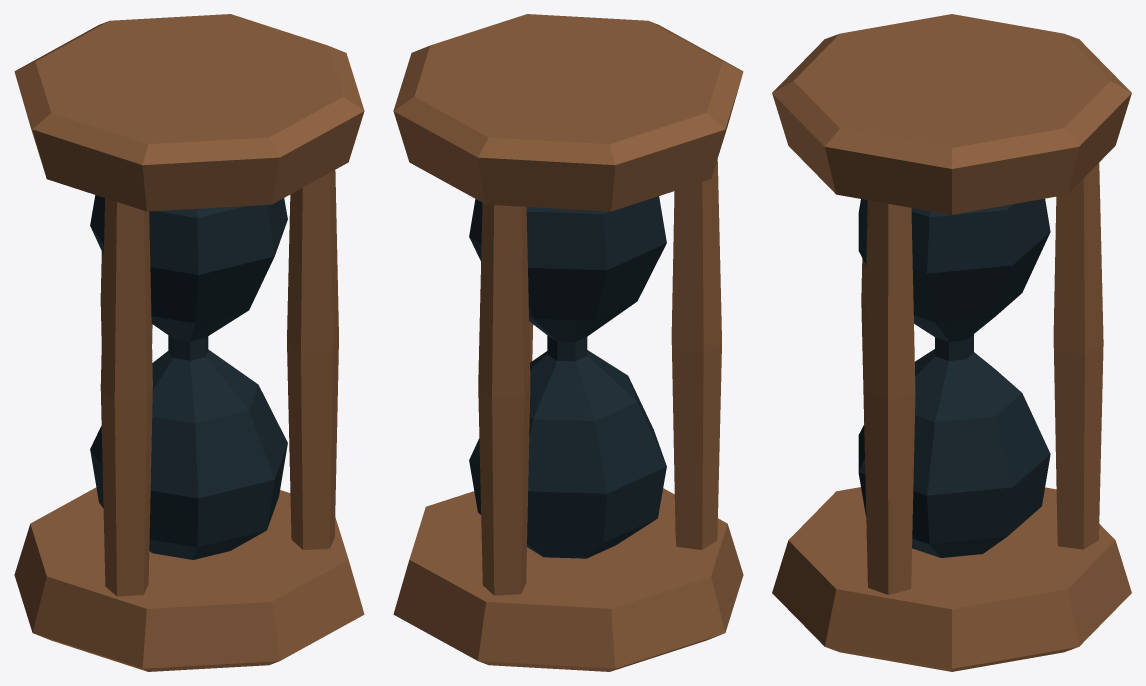
The model's file is hourglass.glb.
3 views of the same model, side by side, from view 1: azimuth 30°, elevation 25°; view 2: azimuth 150°, elevation 25°; view 3: azimuth 270°, elevation 25° (orthographic).
Parts seen in each view (by area): view 1: hourglass; view 2: hourglass; view 3: hourglass.
Boxes of the visible parts, <box> form: hourglass: <box>14,14,364,671</box>; hourglass: <box>393,14,743,671</box>; hourglass: <box>772,14,1131,671</box>.
Size of the model in its own units: 0.1345 by 0.216 by 0.1345.
1 material, 1 textured.
